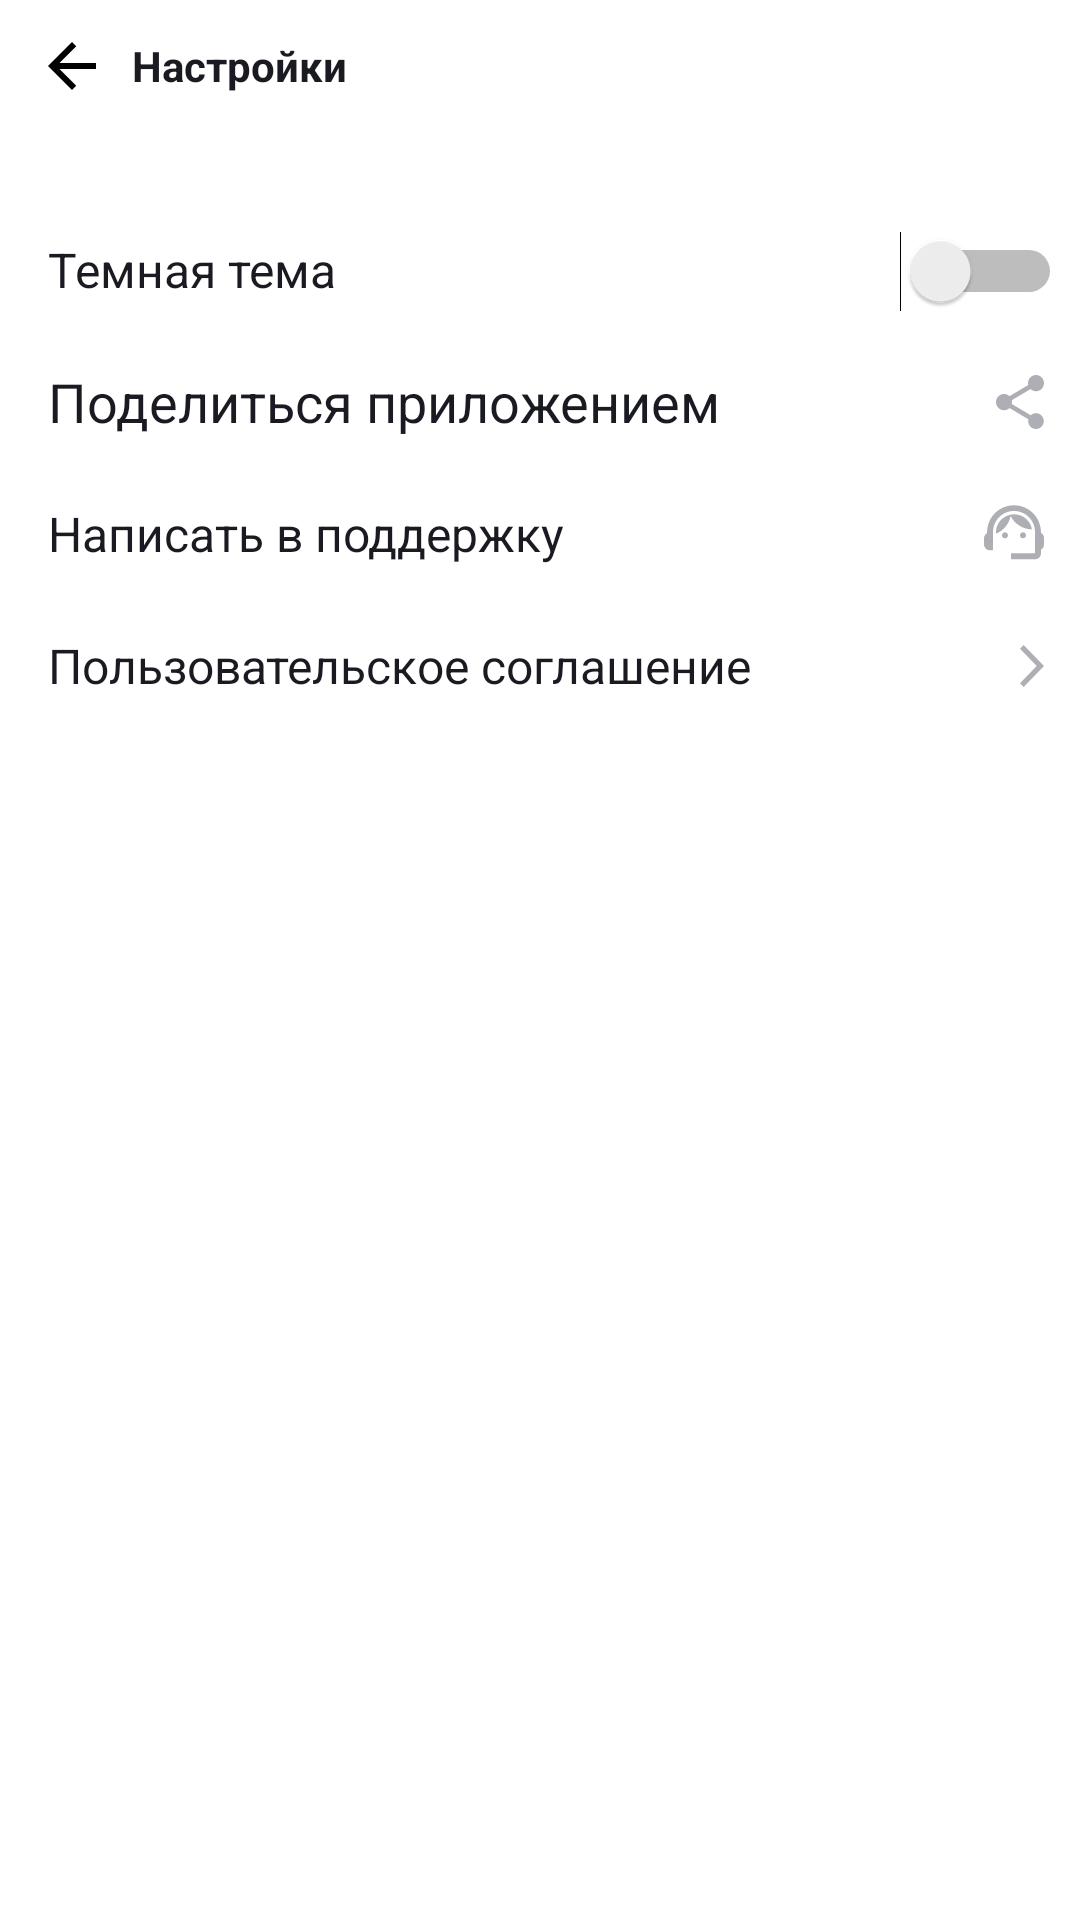

Icons on this 1080x1920 Android screen, each with its box as [left=x1, top=y1, right=x2, bottom=y2]:
arrow back: [left=48, top=42, right=96, bottom=90]
arrow forward: [left=1020, top=645, right=1044, bottom=687]
share: [left=996, top=375, right=1044, bottom=429]
support: [left=984, top=505, right=1044, bottom=559]
